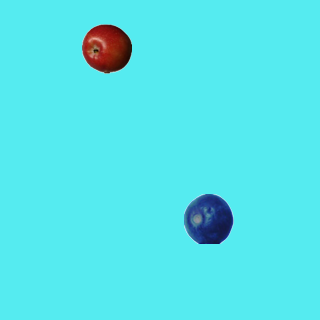Apple Braeburn: (81, 23, 131, 73)
Huckleberry: (183, 193, 233, 243)
